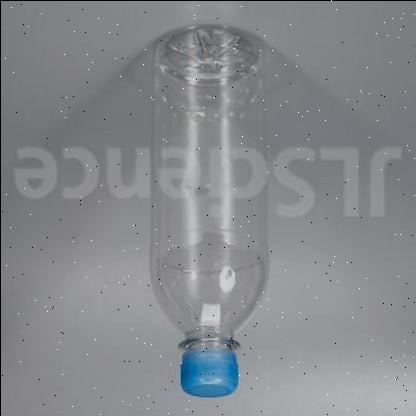Plastic Bottle: (150, 24, 266, 396)
